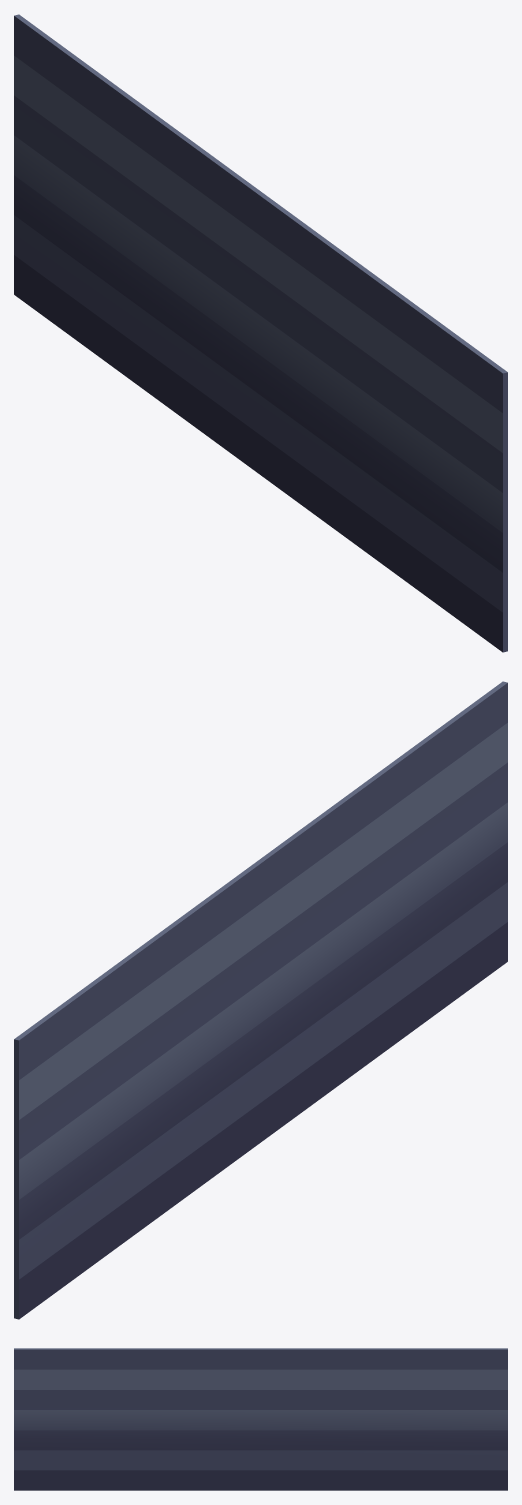
Rendered from f_hatch.fbx.
The picture shows the model from 3 angles, top to bottom: view 1: azimuth 30°, elevation 25°; view 2: azimuth 150°, elevation 25°; view 3: azimuth 270°, elevation 25°; orthographic projection. The views are drawn at different scales.
Parts seen in each view (by area): view 1: f_hatch; view 2: f_hatch; view 3: f_hatch.
Part boxes in pixels (left/top/right/bottom): f_hatch: left=14, top=14, right=507, bottom=652; f_hatch: left=14, top=681, right=507, bottom=1319; f_hatch: left=14, top=1348, right=507, bottom=1490.
Bounding box in the file's own units: 471 × 2.81 × 148.
